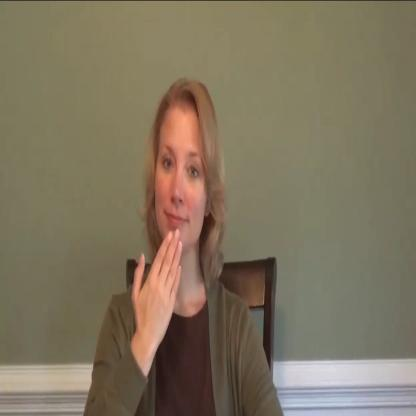ThankYou: (97, 75, 267, 416)
